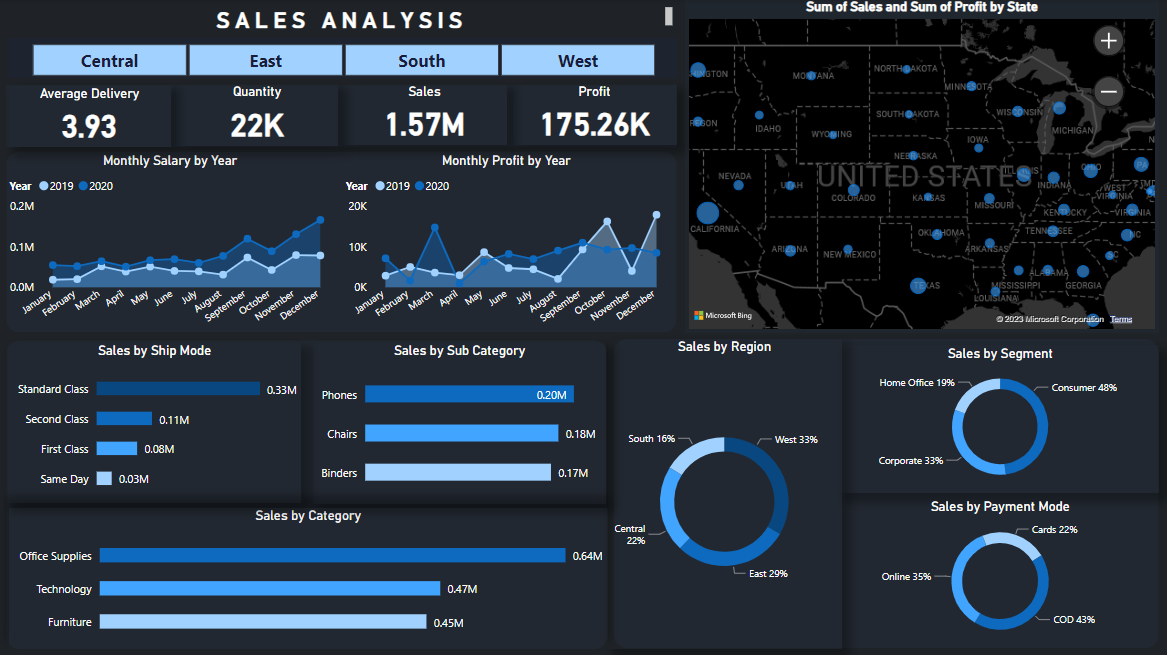

The dashboard page shown, as its layout file describes it:
{"tool":"powerbi","page":{"name":"Sales","canvas":[1280,720],"ordinal":0},"visuals":[{"type":"shape","box":[7.1,373.7,659.3,339.2],"z":0},{"type":"shape","box":[673.6,372.5,597.4,339.2],"z":1000},{"type":"shape","box":[7.1,167.8,735.5,198.7],"z":2000},{"type":"shape","box":[7.1,94,735.5,67.8],"z":3000},{"type":"clusteredBarChart","title":" Sales by Category","fields":{"Category":["SuperStore_Sales_Dataset.Category"],"Y":["Sum(SuperStore_Sales_Dataset.Sales)"]},"box":[9.5,558.1,656.9,154.7],"z":4000},{"type":"clusteredBarChart","title":" Sales by Sub Category","fields":{"Category":["SuperStore_Sales_Dataset.Sub-Category"],"Y":["Sum(SuperStore_Sales_Dataset.Sales)"]},"box":[345.1,374.9,322.5,183.3],"z":5000},{"type":"clusteredBarChart","title":" Sales by Ship Mode","fields":{"Category":["SuperStore_Sales_Dataset.Ship Mode"],"Y":["Sum(SuperStore_Sales_Dataset.Sales)"]},"box":[8.3,377.3,322.5,176.1],"z":6000},{"type":"areaChart","title":"Monthly Salary by Year","fields":{"Category":["SuperStore_Sales_Dataset.Order Date.Variation.Date Hierarchy.Month","SuperStore_Sales_Dataset.Order Date.Variation.Date Hierarchy.Day"],"Y":["Sum(SuperStore_Sales_Dataset.Sales)"],"Series":["SuperStore_Sales_Dataset.Order Date.Variation.Date Hierarchy.Year"]},"box":[6,169,361.8,198.7],"z":7000},{"type":"areaChart","title":"Monthly Profit by Year","fields":{"Category":["SuperStore_Sales_Dataset.Order Date.Variation.Date Hierarchy.Month","SuperStore_Sales_Dataset.Order Date.Variation.Date Hierarchy.Day"],"Series":["SuperStore_Sales_Dataset.Order Date.Variation.Date Hierarchy.Year"],"Y":["Sum(SuperStore_Sales_Dataset.Profit)"]},"box":[374.9,169,361.8,198.7],"z":8000},{"type":"donutChart","title":"Sales by Segment","fields":{"Category":["SuperStore_Sales_Dataset.Segment"],"Y":["Sum(SuperStore_Sales_Dataset.Sales)"]},"box":[922.3,379.6,348.7,155.9],"z":9000},{"type":"donutChart","title":"Sales by Region","fields":{"Category":["SuperStore_Sales_Dataset.Region"],"Y":["Sum(SuperStore_Sales_Dataset.Sales)"]},"box":[673.6,372.5,248.7,340.4],"z":10000},{"type":"donutChart","title":"Sales by Payment Mode","fields":{"Category":["SuperStore_Sales_Dataset.Payment Mode"],"Y":["Sum(SuperStore_Sales_Dataset.Sales)"]},"box":[931.8,554.6,339.2,163],"z":11000},{"type":"slicer","fields":{"Values":["SuperStore_Sales_Dataset.Region"]},"box":[9.5,42.8,733.1,44],"z":12000},{"type":"card","title":"Sales","fields":{"Values":["Sum(SuperStore_Sales_Dataset.Sales)"]},"box":[376.1,92.8,179.7,66.6],"z":13000},{"type":"card","title":"Quantity","fields":{"Values":["Sum(SuperStore_Sales_Dataset.Quantity)"]},"box":[192.8,92.8,177.3,67.8],"z":14000},{"type":"card","title":"Profit","fields":{"Values":["Sum(SuperStore_Sales_Dataset.Profit)"]},"box":[564.1,91.6,178.5,67.8],"z":15000},{"type":"card","title":"Average Delivery","fields":{"Values":["Avg(SuperStore_Sales_Dataset.Average Delivery)"]},"box":[9.5,95.2,177.3,67.8],"z":16000},{"type":"map","fields":{"Category":["SuperStore_Sales_Dataset.State"],"Size":["Sum(SuperStore_Sales_Dataset.Sales)"]},"box":[750.9,0,520.1,366.5],"z":17000},{"type":"textbox","box":[9.5,4.8,733.1,33.3],"z":18000}]}

Visuals, with their boxes in screenshot pixels (x1, y1, x2, y2), scaled from the page's 1280x720 canvas onto the 1167x655 screenshot:
shape: l=6, t=340, r=608, b=649
shape: l=614, t=339, r=1159, b=647
shape: l=6, t=153, r=677, b=333
shape: l=6, t=86, r=677, b=147
" Sales by Category" clusteredBarChart: l=9, t=508, r=608, b=648
" Sales by Sub Category" clusteredBarChart: l=315, t=341, r=609, b=508
" Sales by Ship Mode" clusteredBarChart: l=8, t=343, r=302, b=503
"Monthly Salary by Year" areaChart: l=5, t=154, r=335, b=335
"Monthly Profit by Year" areaChart: l=342, t=154, r=672, b=335
"Sales by Segment" donutChart: l=841, t=345, r=1159, b=487
"Sales by Region" donutChart: l=614, t=339, r=841, b=649
"Sales by Payment Mode" donutChart: l=850, t=505, r=1159, b=653
slicer - SuperStore_Sales_Dataset.Region: l=9, t=39, r=677, b=79
"Sales" card: l=343, t=84, r=507, b=145
"Quantity" card: l=176, t=84, r=337, b=146
"Profit" card: l=514, t=83, r=677, b=145
"Average Delivery" card: l=9, t=87, r=170, b=148
map - SuperStore_Sales_Dataset.State x Sum(SuperStore_Sales_Dataset.Sales): l=685, t=0, r=1159, b=333
textbox: l=9, t=4, r=677, b=35
